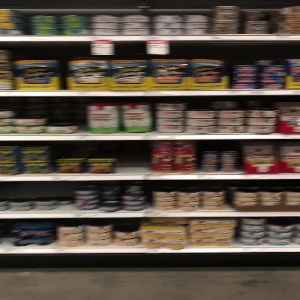void: (116, 141, 151, 174)
